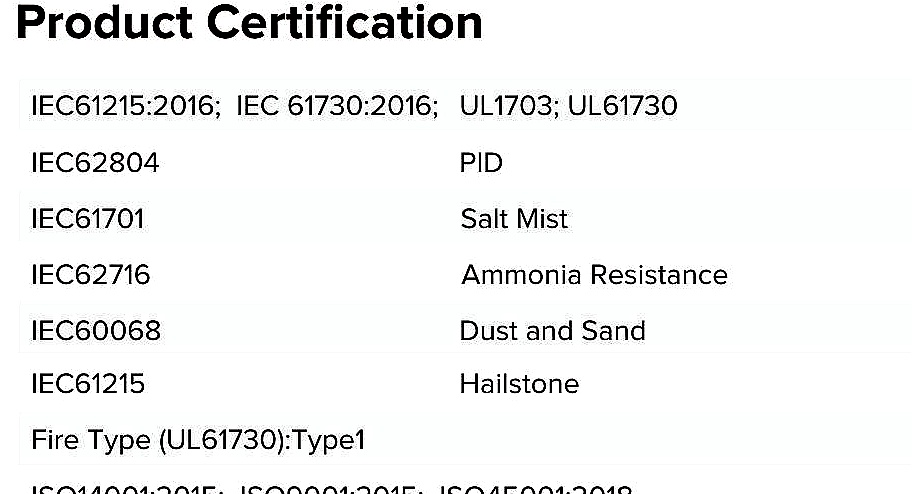table: (16, 79, 855, 462)
table column: (19, 84, 447, 460), (450, 83, 853, 458)
table name: (10, 1, 509, 54)
table row: (21, 252, 853, 299), (21, 137, 851, 181), (20, 87, 849, 130), (21, 364, 855, 405), (21, 415, 854, 456), (22, 312, 853, 352), (21, 197, 852, 233)
